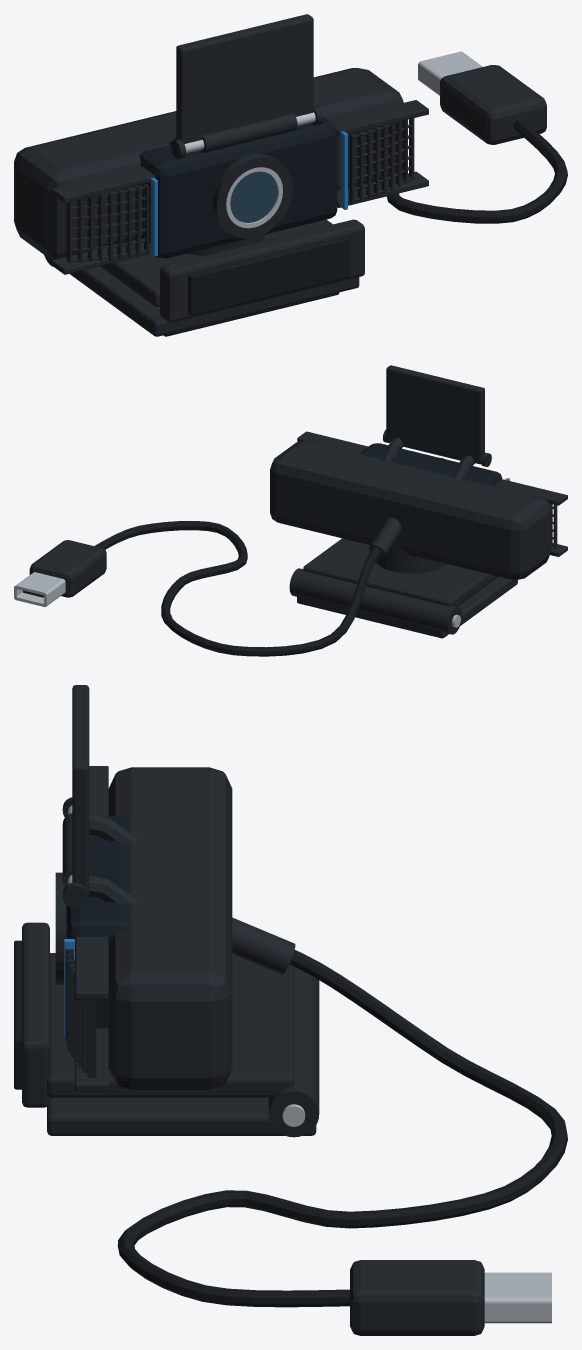
File: full.fbx
3 views of the same model, one above another, from view 1: azimuth 30°, elevation 25°; view 2: azimuth 150°, elevation 25°; view 3: azimuth 270°, elevation 25° (orthographic). The views are drawn at different scales.
Parts seen in each view (by area): view 1: Closed rear camera shell, Raised privacy cover, Central glossy face, Front lip rubber, USB A molded end, Short front monitor lip, Lower folding clip plate, Complete generic USB cable, Recessed lens concentric rim, Upper clip plate, Closed lens glass, Grille upper rail -1 (+11 smaller); view 2: Closed rear camera shell, Raised privacy cover, Complete generic USB cable, Upper clip plate, Folded clip rear hinge, USB A molded end, Lower folding clip plate, Central glossy face, USB A hollow metal shell, Generic camera clip mount, Rear generic strain relief, Grille upper rail -1 (+1 smaller); view 3: Closed rear camera shell, Complete generic USB cable, Upper clip plate, USB A molded end, Lower folding clip plate, Short front monitor lip, Folded clip rear hinge, Central glossy face, Raised privacy cover, USB A hollow metal shell, Rear generic strain relief, Grille upper rail 1 (+6 smaller).
Boxes of the visible parts, x1=… form: Closed rear camera shell: x1=14, y1=68, x2=403, y2=259; Raised privacy cover: x1=176, y1=14, x2=313, y2=143; Central glossy face: x1=139, y1=116, x2=337, y2=258; Front lip rubber: x1=188, y1=236, x2=350, y2=315; USB A molded end: x1=440, y1=65, x2=546, y2=144; Short front monitor lip: x1=160, y1=219, x2=364, y2=322; Lower folding clip plate: x1=69, y1=266, x2=359, y2=336; Complete generic USB cable: x1=386, y1=118, x2=567, y2=223; Recessed lens concentric rim: x1=212, y1=153, x2=292, y2=238; Upper clip plate: x1=100, y1=219, x2=332, y2=306; Closed lens glass: x1=230, y1=171, x2=277, y2=222; Grille upper rail -1: x1=52, y1=167, x2=155, y2=202; Closed rear camera shell: x1=270, y1=441, x2=550, y2=579; Raised privacy cover: x1=386, y1=365, x2=484, y2=464; Complete generic USB cable: x1=94, y1=521, x2=380, y2=656; Upper clip plate: x1=303, y1=538, x2=498, y2=606; Folded clip rear hinge: x1=289, y1=568, x2=461, y2=634; USB A molded end: x1=29, y1=540, x2=106, y2=597; Lower folding clip plate: x1=297, y1=576, x2=517, y2=638; Central glossy face: x1=360, y1=443, x2=502, y2=485; USB A hollow metal shell: x1=14, y1=572, x2=65, y2=606; Generic camera clip mount: x1=375, y1=544, x2=446, y2=573; Rear generic strain relief: x1=369, y1=517, x2=401, y2=558; Grille upper rail -1: x1=494, y1=479, x2=567, y2=505; Closed rear camera shell: x1=108, y1=767, x2=232, y2=1089; Complete generic USB cable: x1=117, y1=950, x2=567, y2=1307; Upper clip plate: x1=47, y1=953, x2=293, y2=1097; USB A molded end: x1=350, y1=1260, x2=484, y2=1335; Lower folding clip plate: x1=47, y1=1097, x2=316, y2=1135; Short front monitor lip: x1=22, y1=922, x2=49, y2=1107; Folded clip rear hinge: x1=268, y1=966, x2=319, y2=1137; Central glossy face: x1=66, y1=816, x2=129, y2=1028; Raised privacy cover: x1=72, y1=685, x2=89, y2=896; USB A hollow metal shell: x1=484, y1=1272, x2=551, y2=1323; Rear generic strain relief: x1=232, y1=917, x2=295, y2=974; Grille upper rail 1: x1=75, y1=936, x2=108, y2=999.
Bounding box in the file's own units: 15.6 × 7.05 × 9.87.
